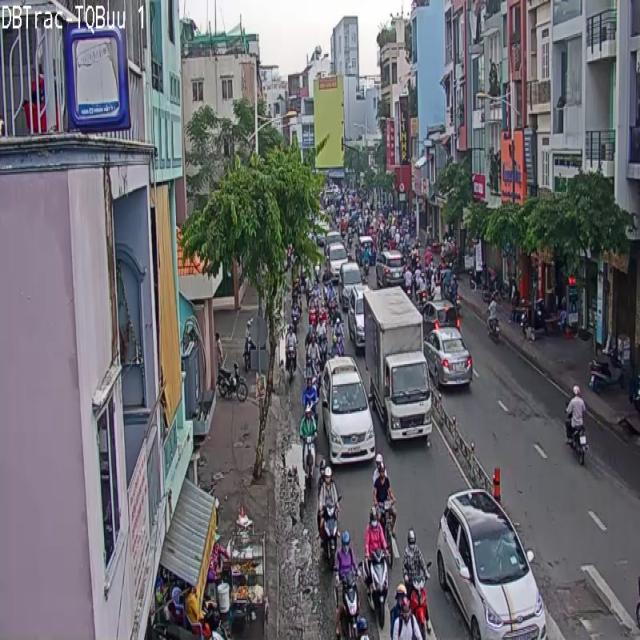car: (365, 511, 388, 627), (335, 533, 358, 639), (318, 466, 338, 559)
traffic-light: (435, 489, 545, 639), (321, 358, 375, 464)
truck: (365, 287, 431, 441)
